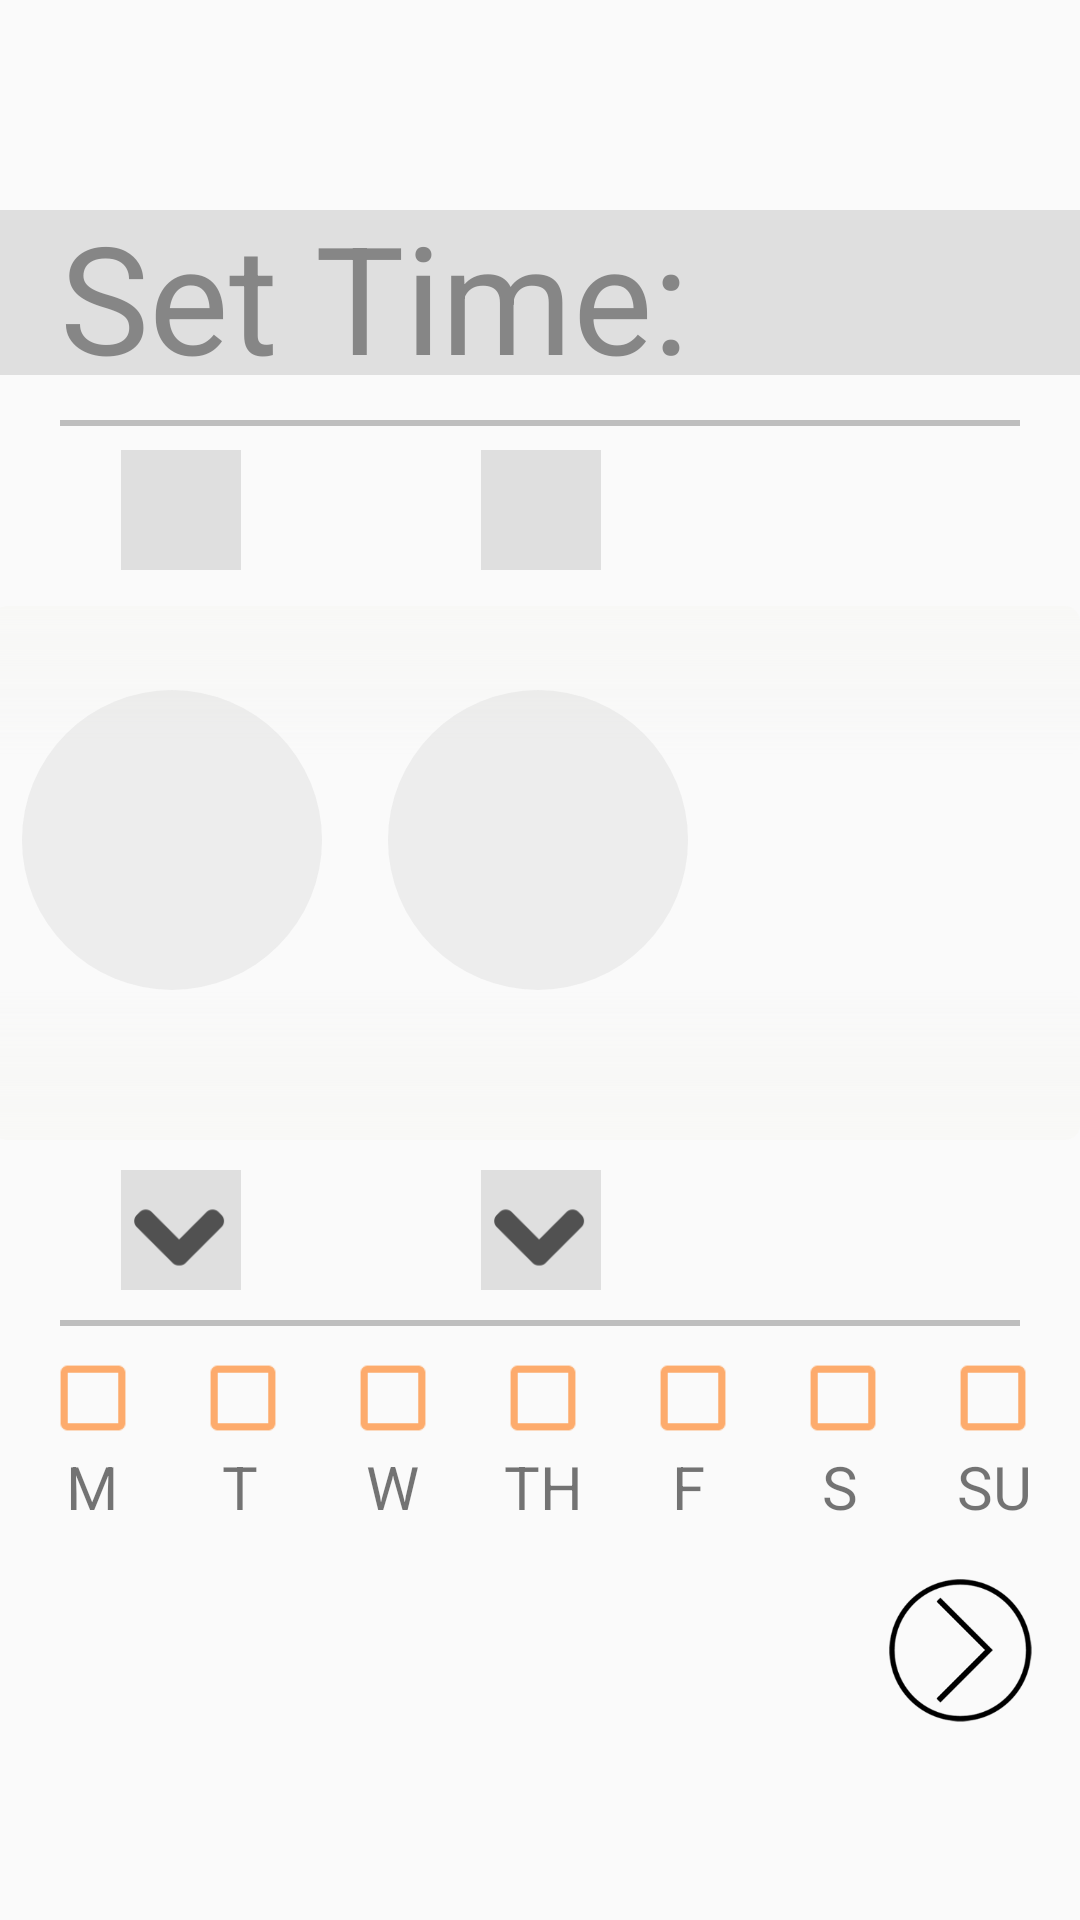

Screen size 1080 x 1920. Icon name, then its center in pixels as (x=x, y=y):
arrowdown: (x=181, y=1230), (x=541, y=1230)
next arrow: (x=960, y=1650)
